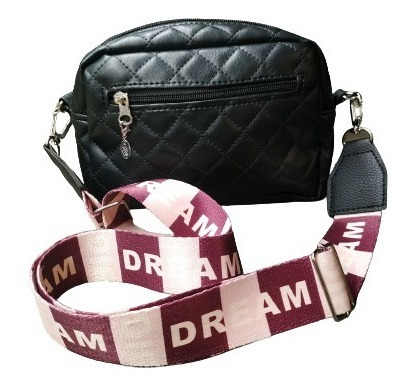cartera: (40, 13, 342, 217)
